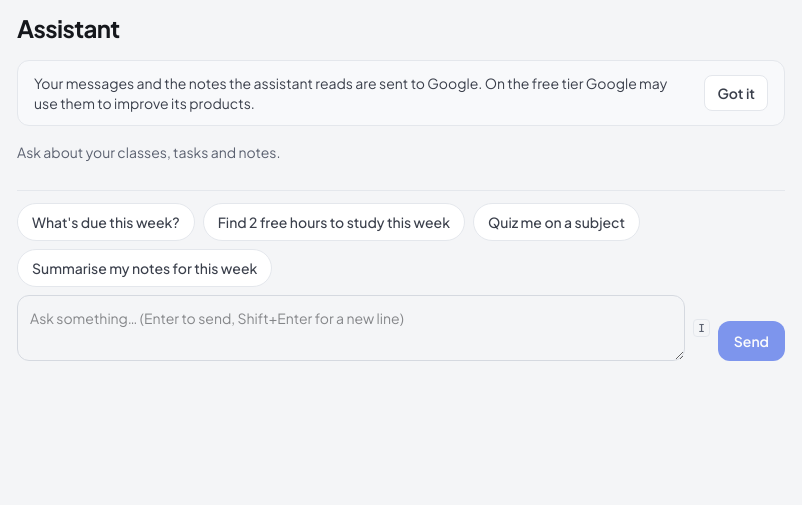
AssistantPage › sends a message and shows the reply as text with its action card
Type "plan my week" into the text box named "Message the assistant". click: (351,328)
box: [17,295,685,361]
Then press Enter
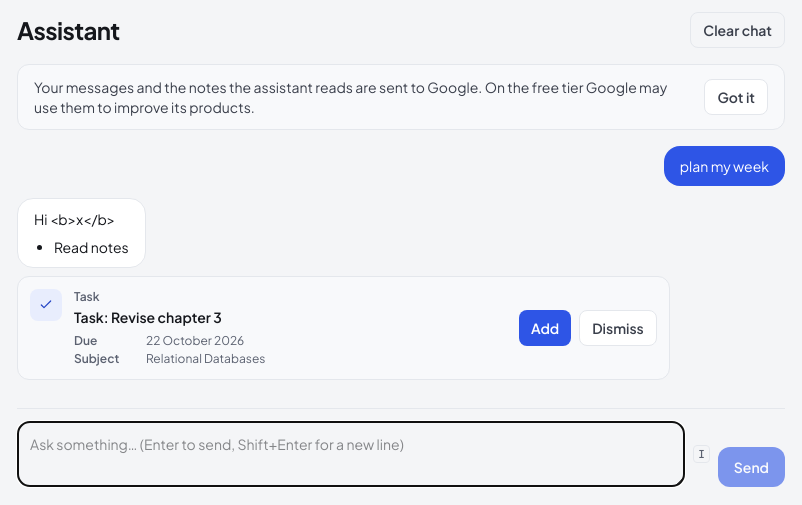
Result: the text "Task: Revise chapter 3" is shown at [74,308,222,326]
Result: the text "plan my week" is shown at [680,156,769,176]
Result: the list item "Read notes" is shown at [54,237,129,257]
